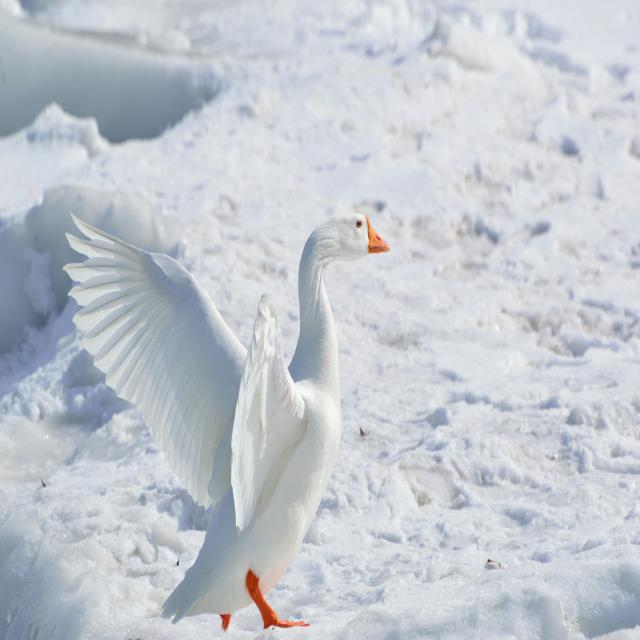Goose: (67, 199, 394, 633)
